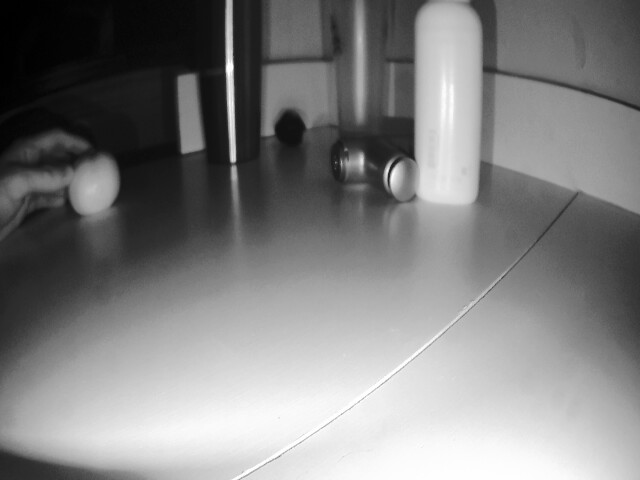silver: (273, 107, 311, 148)
